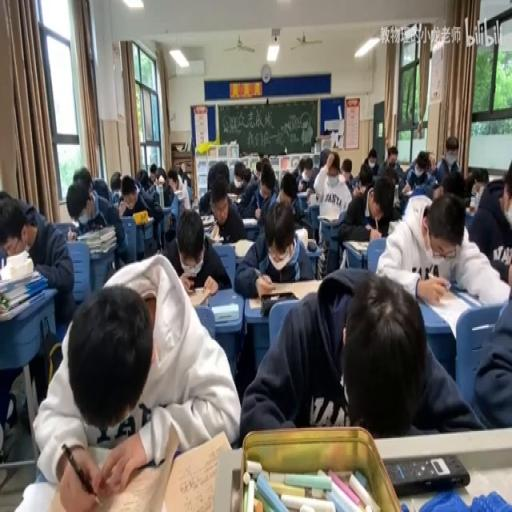calculator: (420, 280, 482, 340), (210, 300, 238, 322), (185, 286, 213, 307), (232, 236, 254, 256), (345, 239, 369, 253), (200, 214, 216, 234), (294, 224, 307, 248), (386, 219, 400, 235), (318, 212, 340, 222), (134, 214, 154, 224), (206, 233, 222, 245), (306, 196, 320, 206), (242, 218, 258, 226), (226, 193, 240, 202), (173, 189, 184, 199), (401, 182, 411, 193), (297, 189, 309, 198), (464, 205, 477, 213)
paper: (34, 252, 239, 506), (240, 269, 481, 441), (375, 185, 510, 307), (2, 190, 74, 332), (232, 195, 315, 296), (69, 168, 128, 272), (472, 276, 512, 427), (162, 206, 228, 294), (336, 172, 392, 266), (123, 171, 165, 250), (230, 161, 260, 216), (432, 135, 464, 182), (403, 148, 435, 193), (380, 142, 406, 186), (297, 156, 317, 195), (467, 165, 488, 201), (206, 159, 229, 191), (278, 172, 297, 202), (361, 146, 378, 178), (90, 175, 110, 202), (339, 158, 354, 189), (108, 171, 122, 202), (198, 188, 212, 214), (177, 164, 191, 186), (136, 168, 149, 190), (148, 160, 158, 184), (166, 170, 178, 190), (318, 148, 330, 168), (254, 158, 263, 182), (432, 184, 443, 200), (184, 183, 192, 205), (0, 188, 11, 202), (446, 145, 455, 161), (428, 152, 435, 171), (291, 165, 299, 181), (156, 175, 165, 188), (244, 168, 250, 183)
person: (384, 452, 470, 494), (259, 292, 298, 314), (306, 239, 318, 250)
